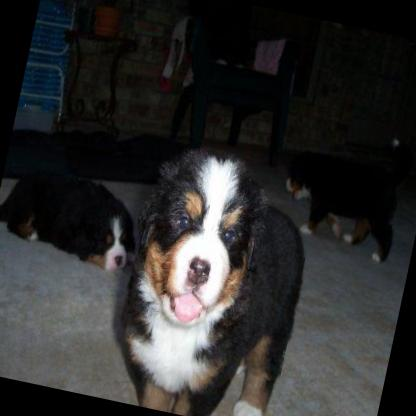Bernese_mountain_dog: (101, 131, 327, 416), (273, 136, 411, 262), (0, 159, 148, 274)
